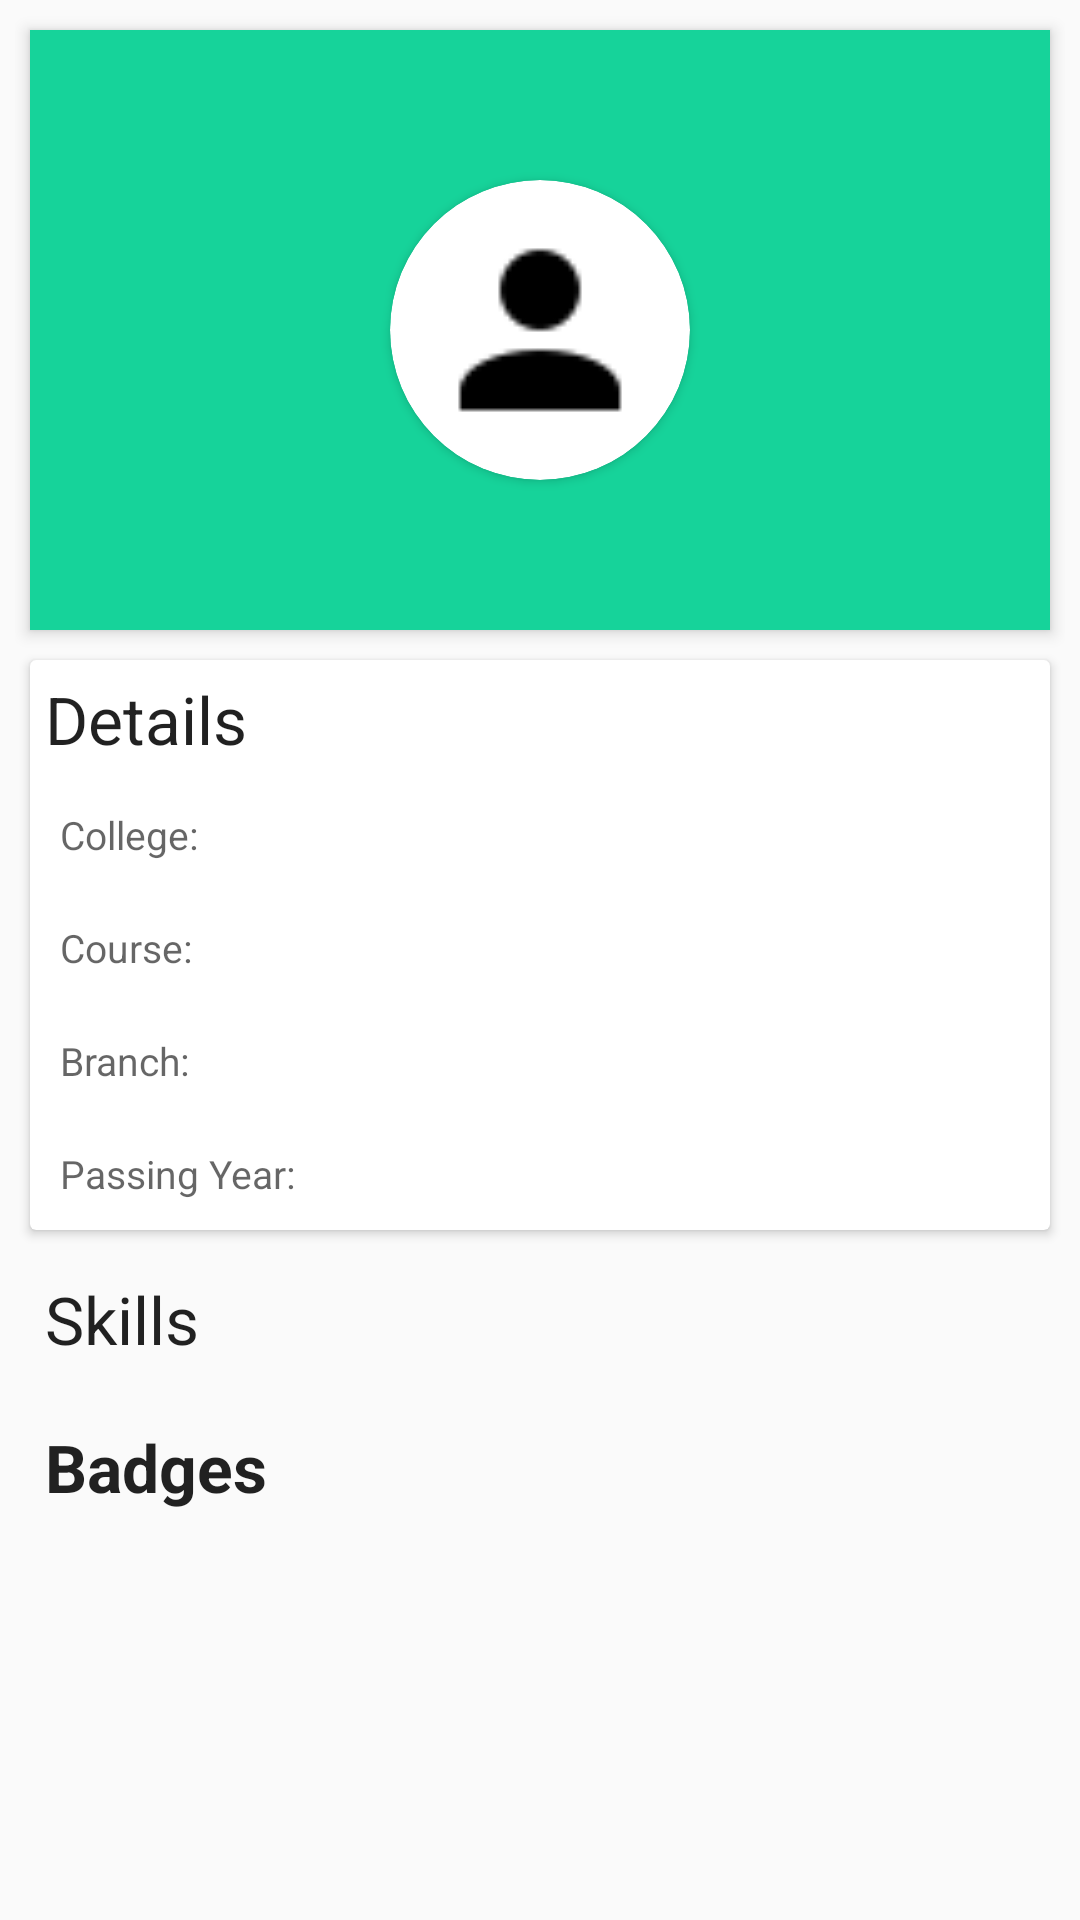

Icon click points for this 1080×1920 phone screenshot, format point (x, y):
account: point (540, 330)
